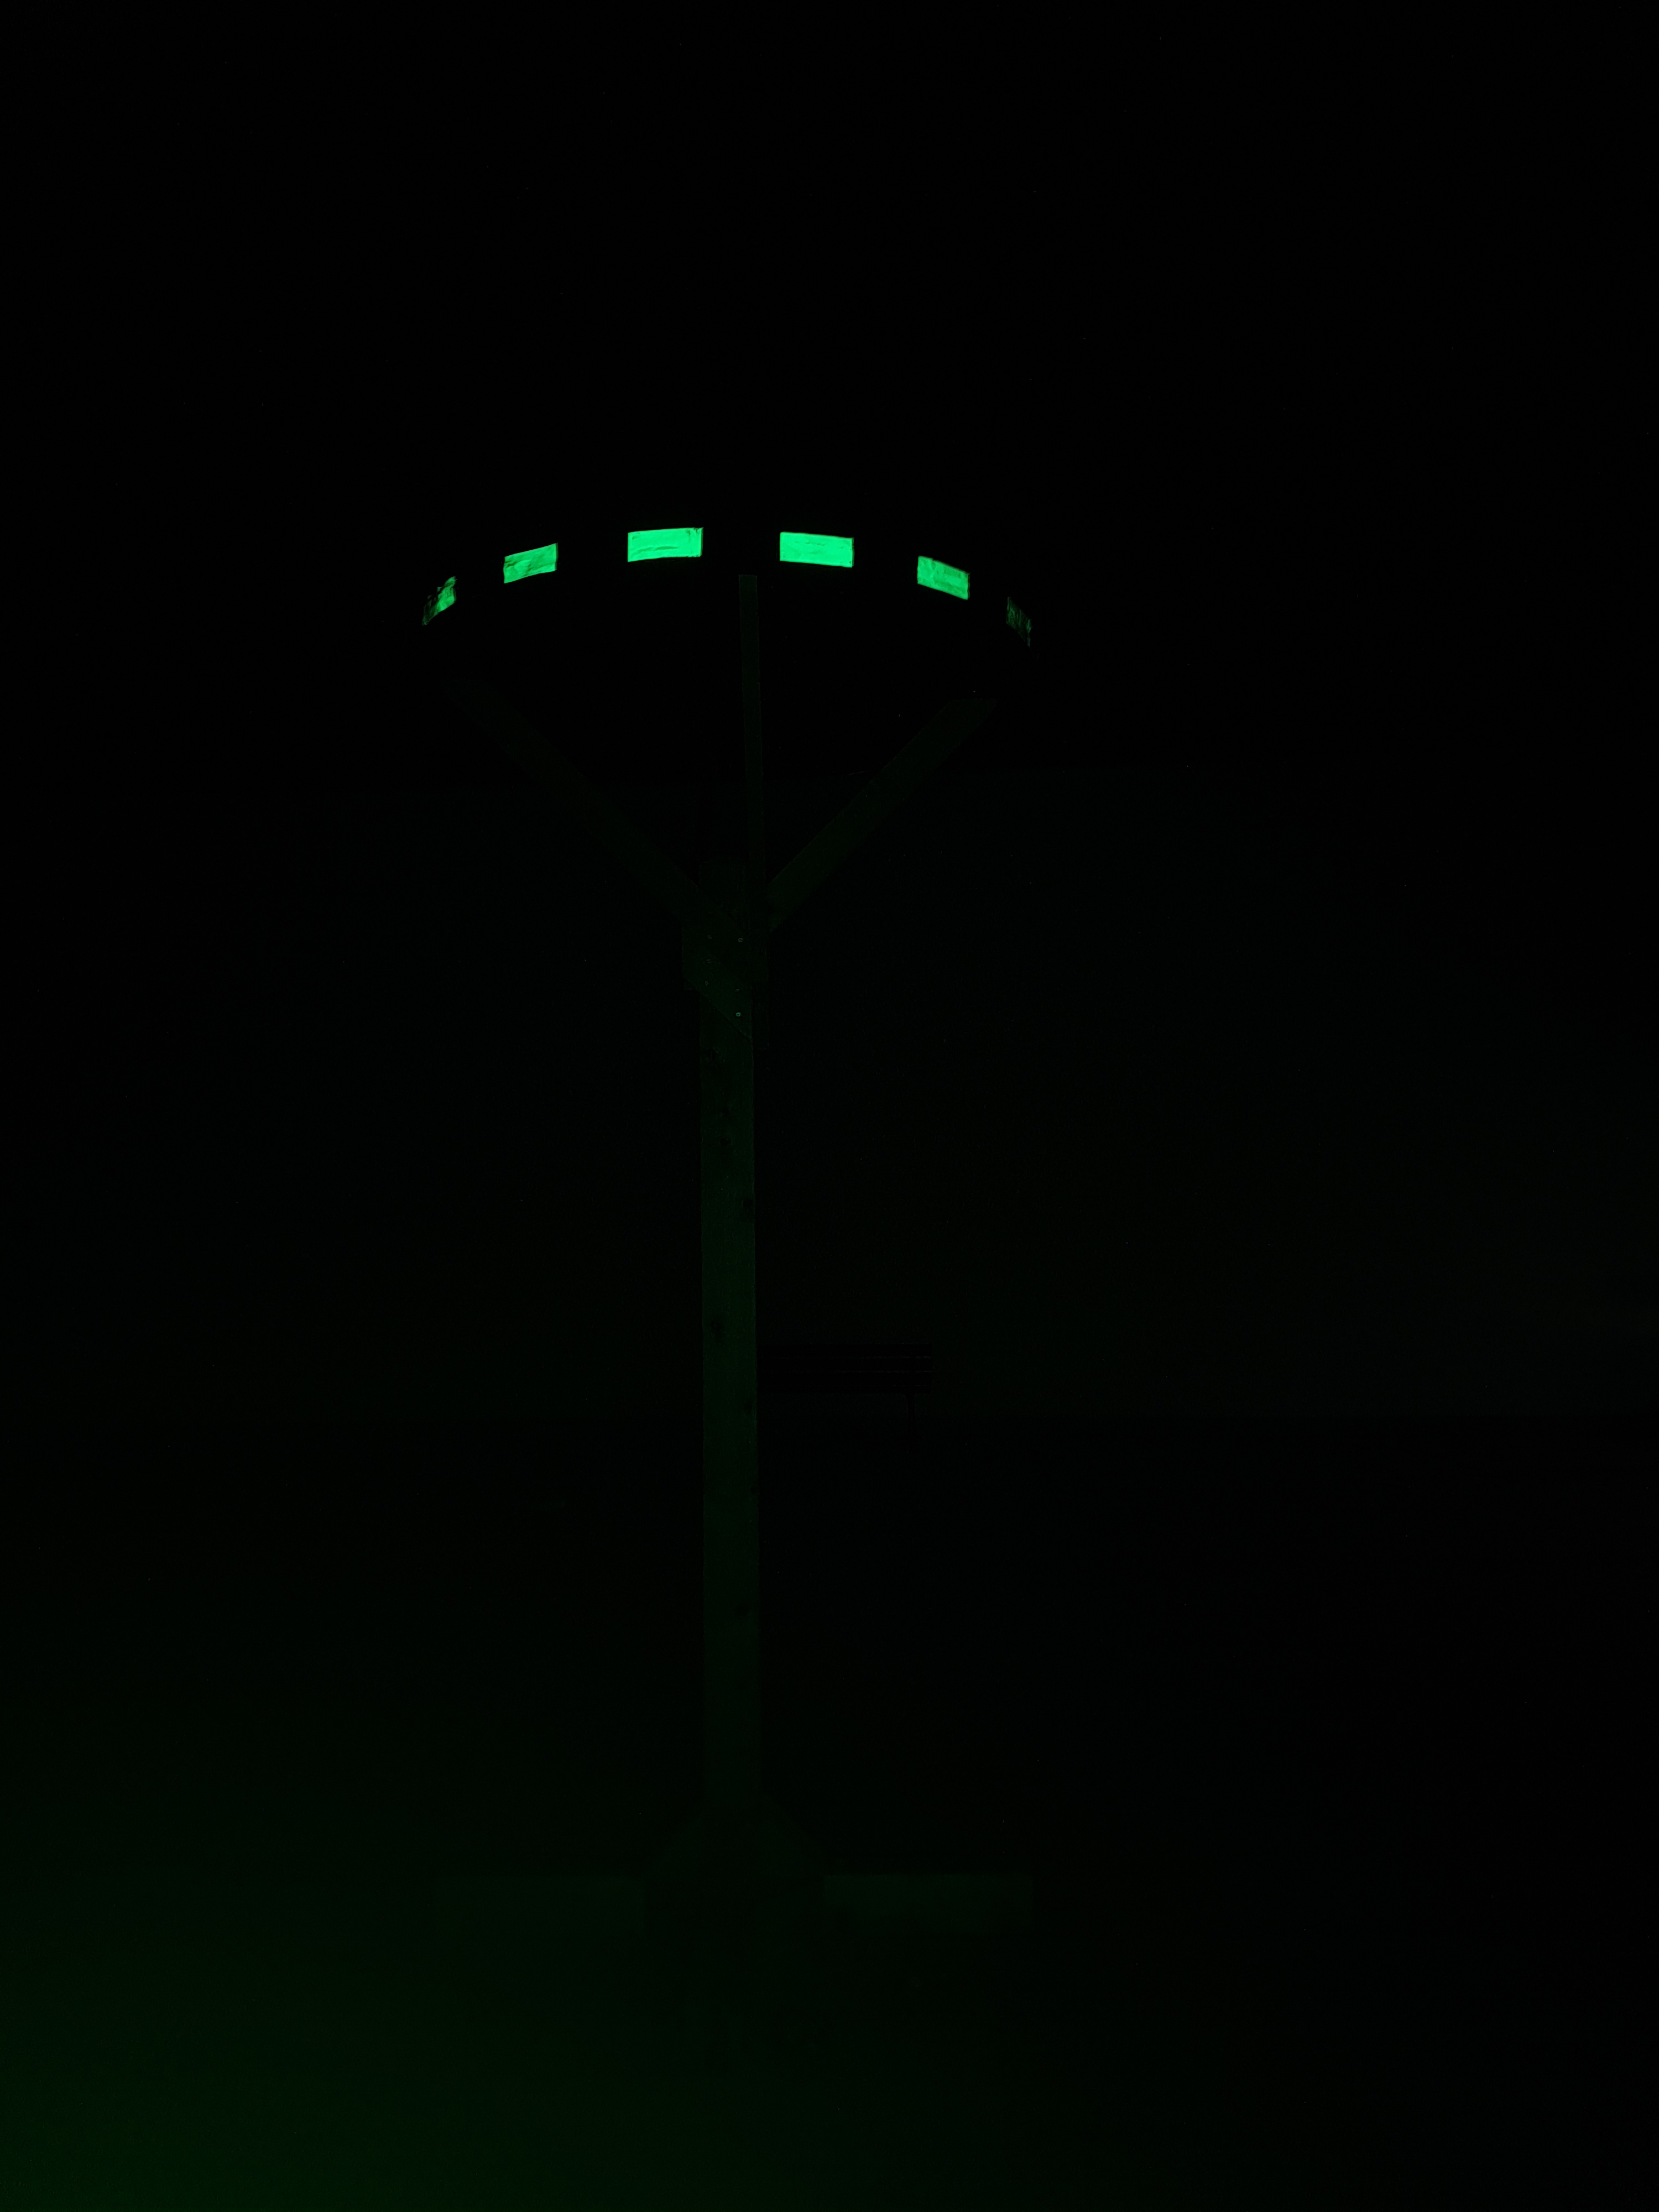hoop: (422, 526, 1033, 646)
